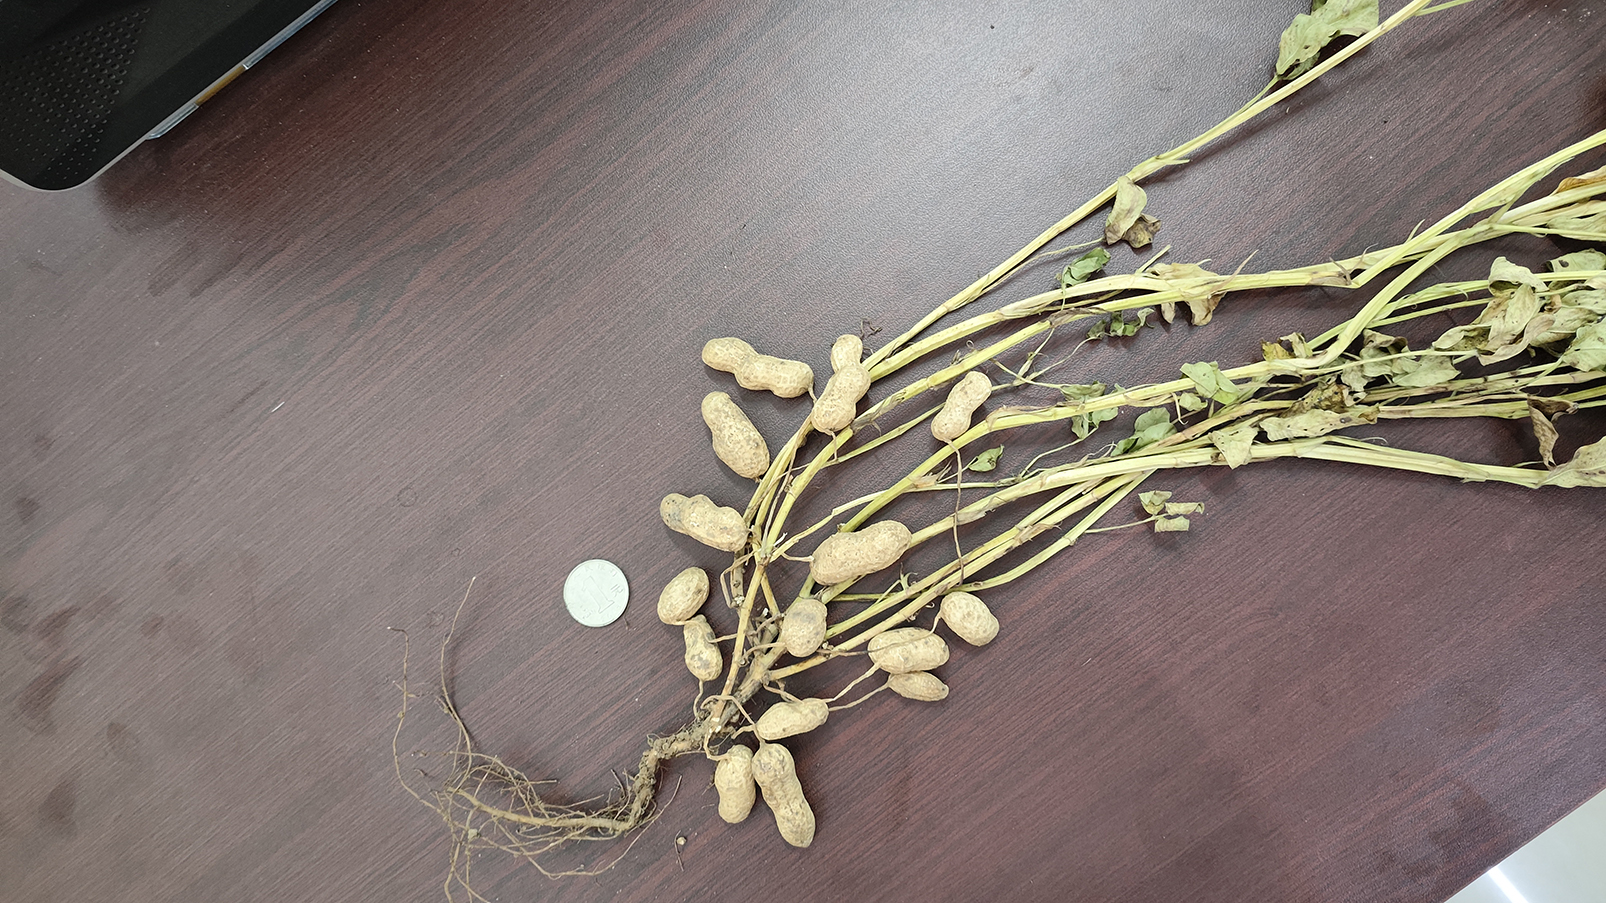h: (702, 333, 814, 398), (811, 519, 914, 585), (753, 743, 815, 849), (809, 333, 870, 434), (700, 390, 770, 477), (660, 492, 747, 551), (931, 369, 993, 440), (868, 627, 949, 674), (939, 590, 1002, 648), (713, 744, 754, 821), (754, 698, 829, 740), (655, 568, 708, 625), (783, 598, 827, 660), (682, 615, 724, 679), (886, 671, 949, 703)
